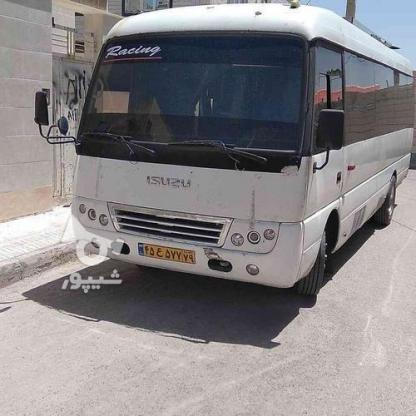Bus: (61, 0, 416, 307)
